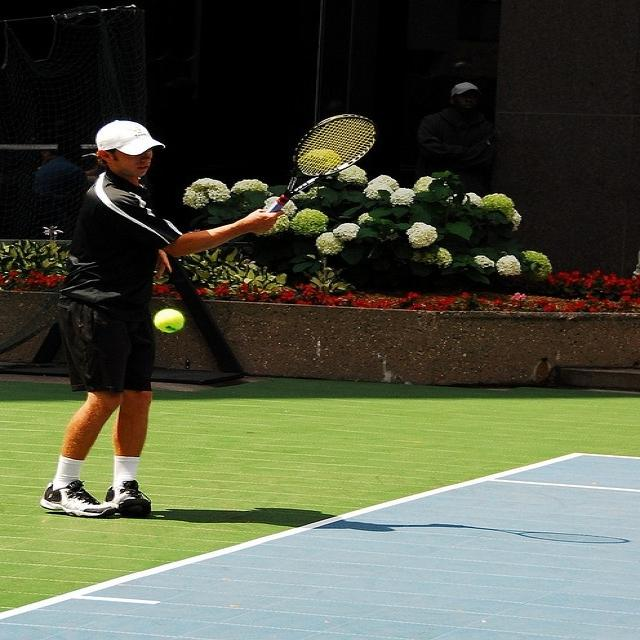ball: (149, 308, 187, 334)
